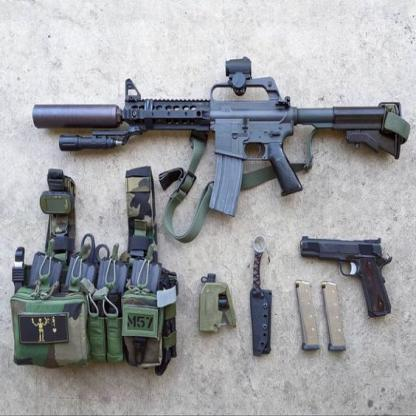Gun: (32, 52, 411, 243)
Knife: (248, 234, 275, 357)
Pistol: (300, 232, 393, 320)
